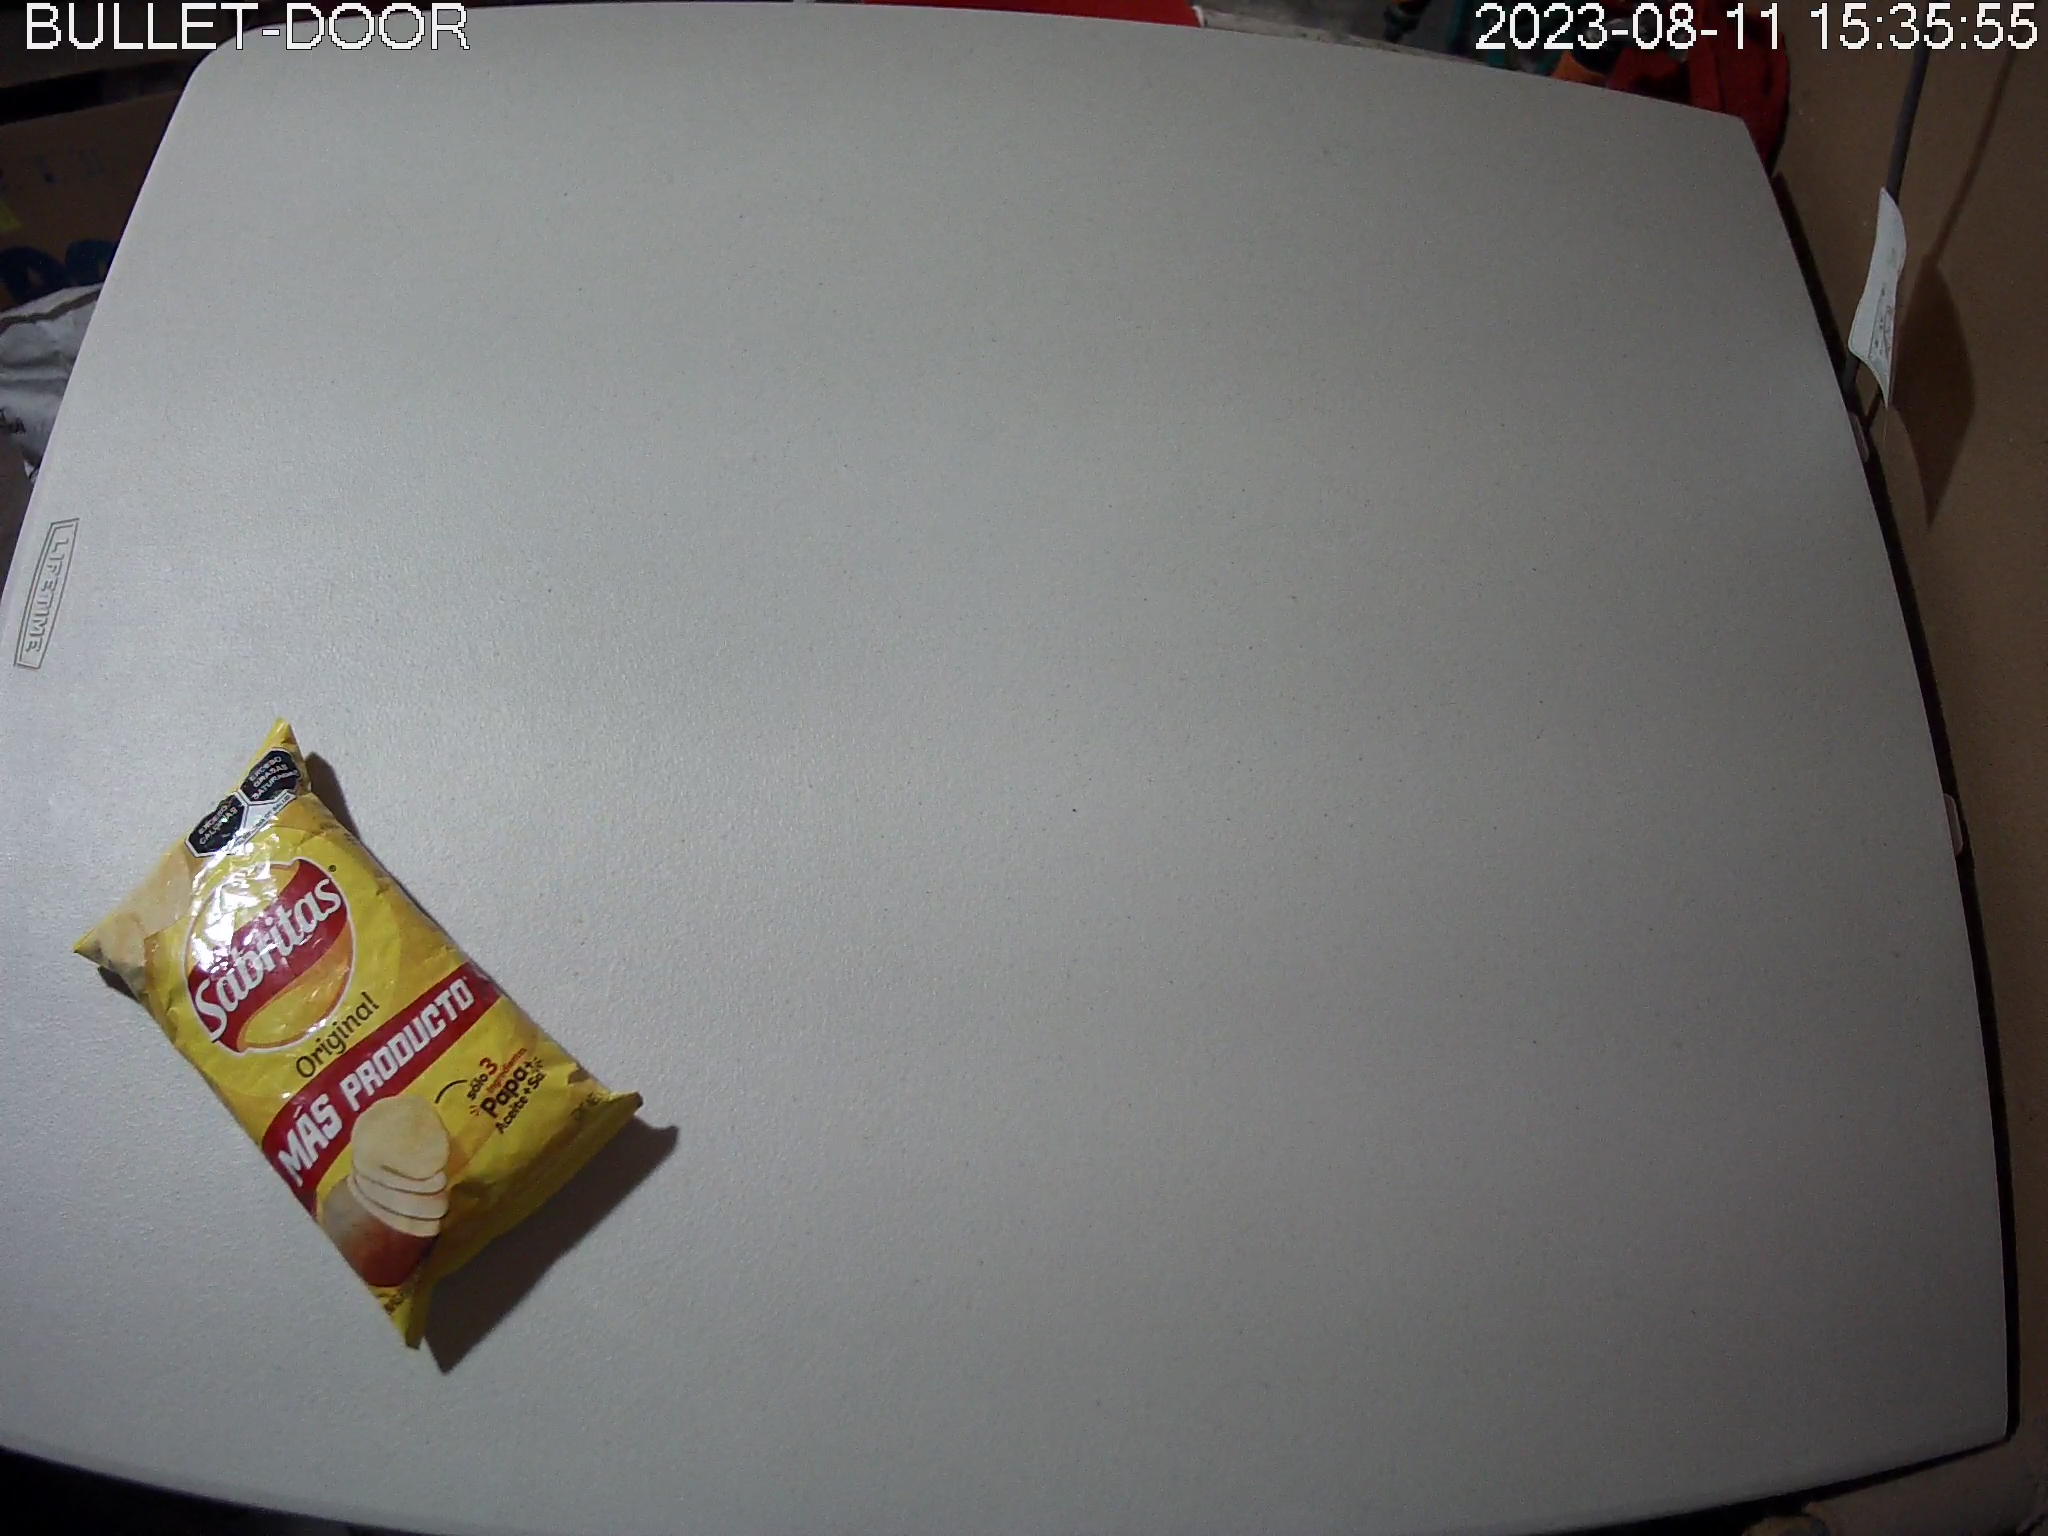Sabritas_45_F: (69, 716, 647, 1355)
